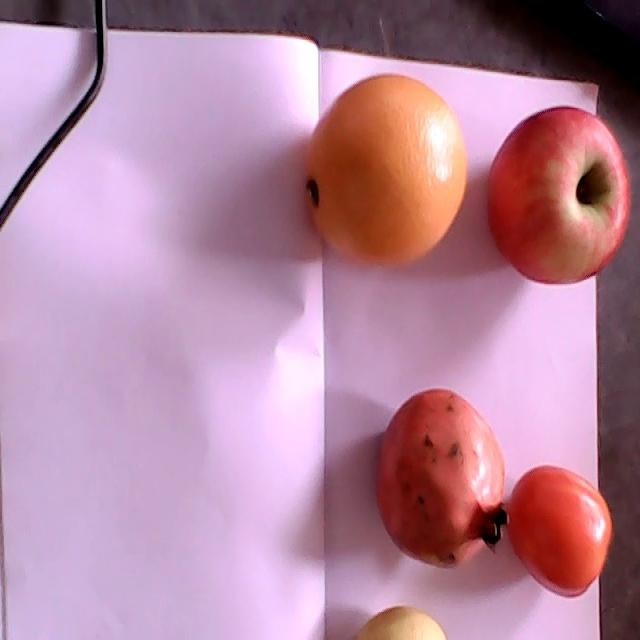apple: (487, 108, 630, 283)
lemon: (354, 609, 447, 639)
orange: (305, 76, 467, 265)
pomegranate: (376, 389, 512, 568)
tomato: (506, 468, 612, 597)
